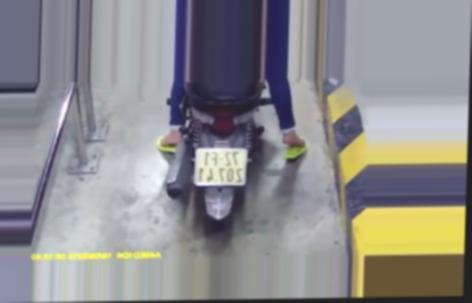License_Plate: (190, 140, 255, 190)
